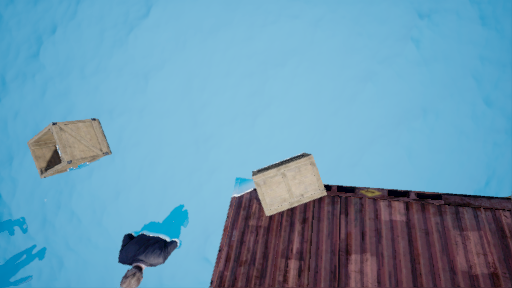person: (115, 203, 193, 288)
